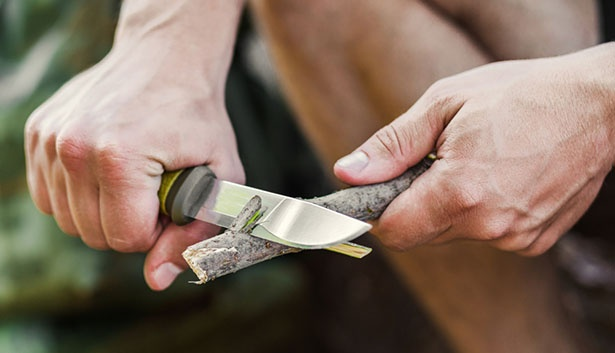knife: (101, 139, 374, 253)
